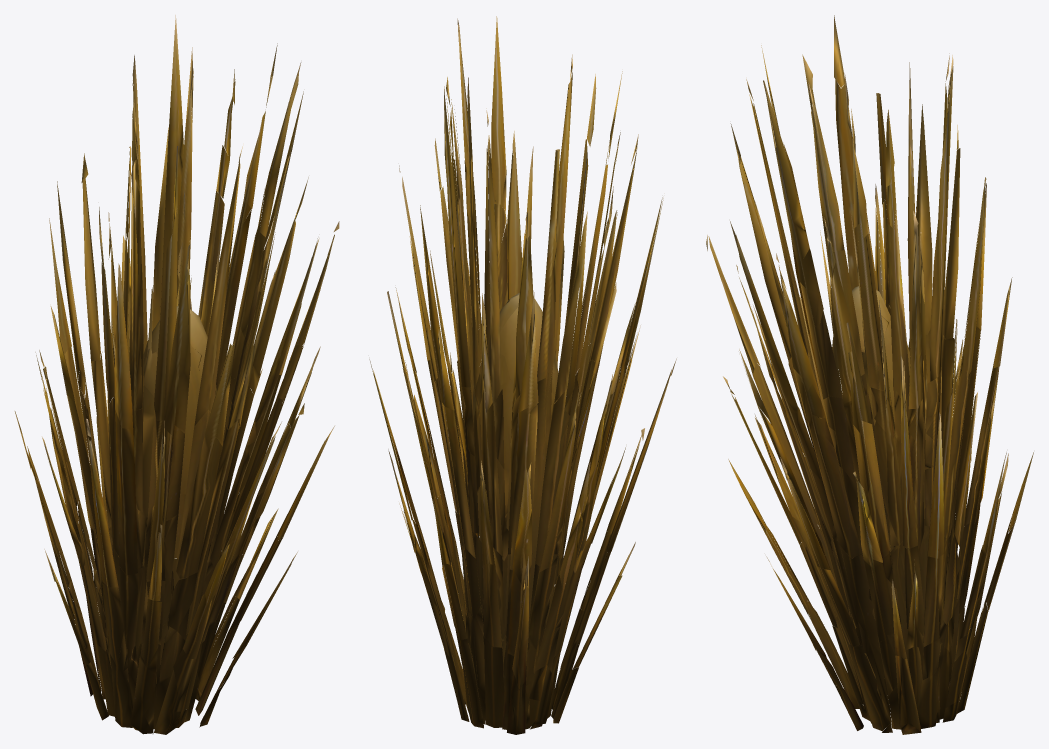
Rendered from desert_grass_blades_tall.glb.
3 renders of one model, left to right at view 1: azimuth 30°, elevation 25°; view 2: azimuth 150°, elevation 25°; view 3: azimuth 270°, elevation 25°, orthographic. The views are drawn at different scales.
Visible parts, largest first — view 1: desert_grass_blades_tall; view 2: desert_grass_blades_tall; view 3: desert_grass_blades_tall.
Boxes of the visible parts, <box> form: desert_grass_blades_tall: <box>14,15,339,734</box>; desert_grass_blades_tall: <box>369,16,676,734</box>; desert_grass_blades_tall: <box>706,15,1033,734</box>.
Size of the model in its own units: 0.471 by 1.2 by 0.5151.
1 material, 1 textured.
